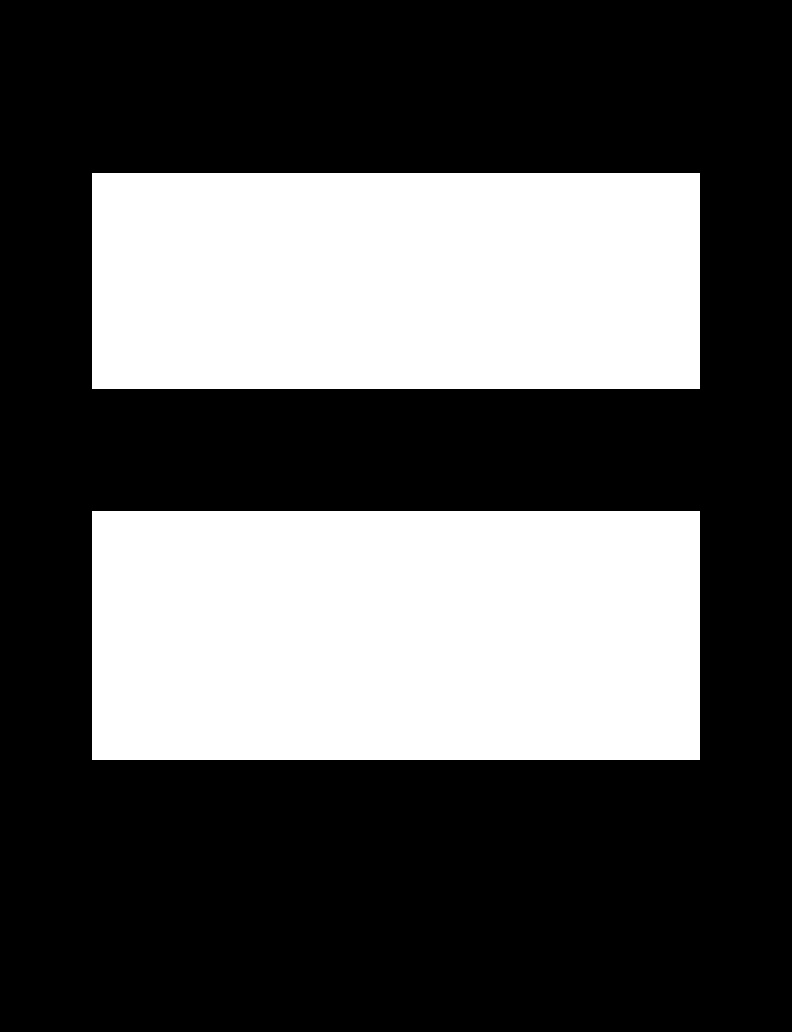table: (92, 511, 699, 759), (92, 173, 699, 388)
